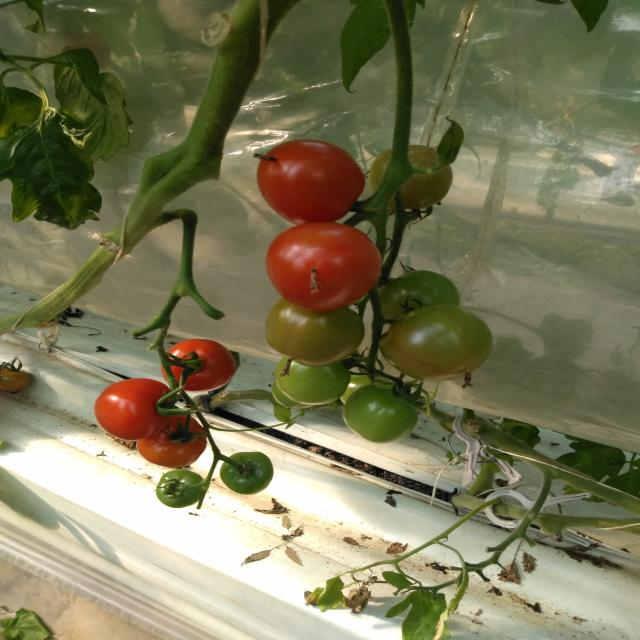c-half-riped: (265, 296, 365, 368), (369, 144, 453, 210), (136, 408, 207, 468)
c-riped: (265, 222, 382, 312), (257, 139, 365, 225), (94, 378, 174, 441), (160, 339, 237, 392)
c-unriped: (379, 304, 495, 383), (342, 385, 418, 443), (376, 270, 461, 321), (274, 356, 351, 404), (220, 452, 274, 494), (156, 469, 205, 508), (339, 372, 394, 403), (271, 380, 316, 408)
